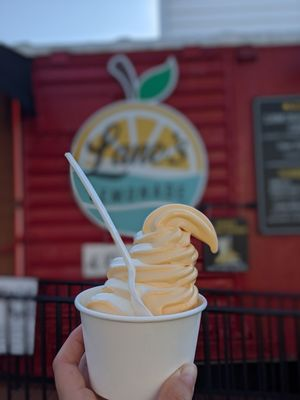pizza: (74, 283, 207, 400)
